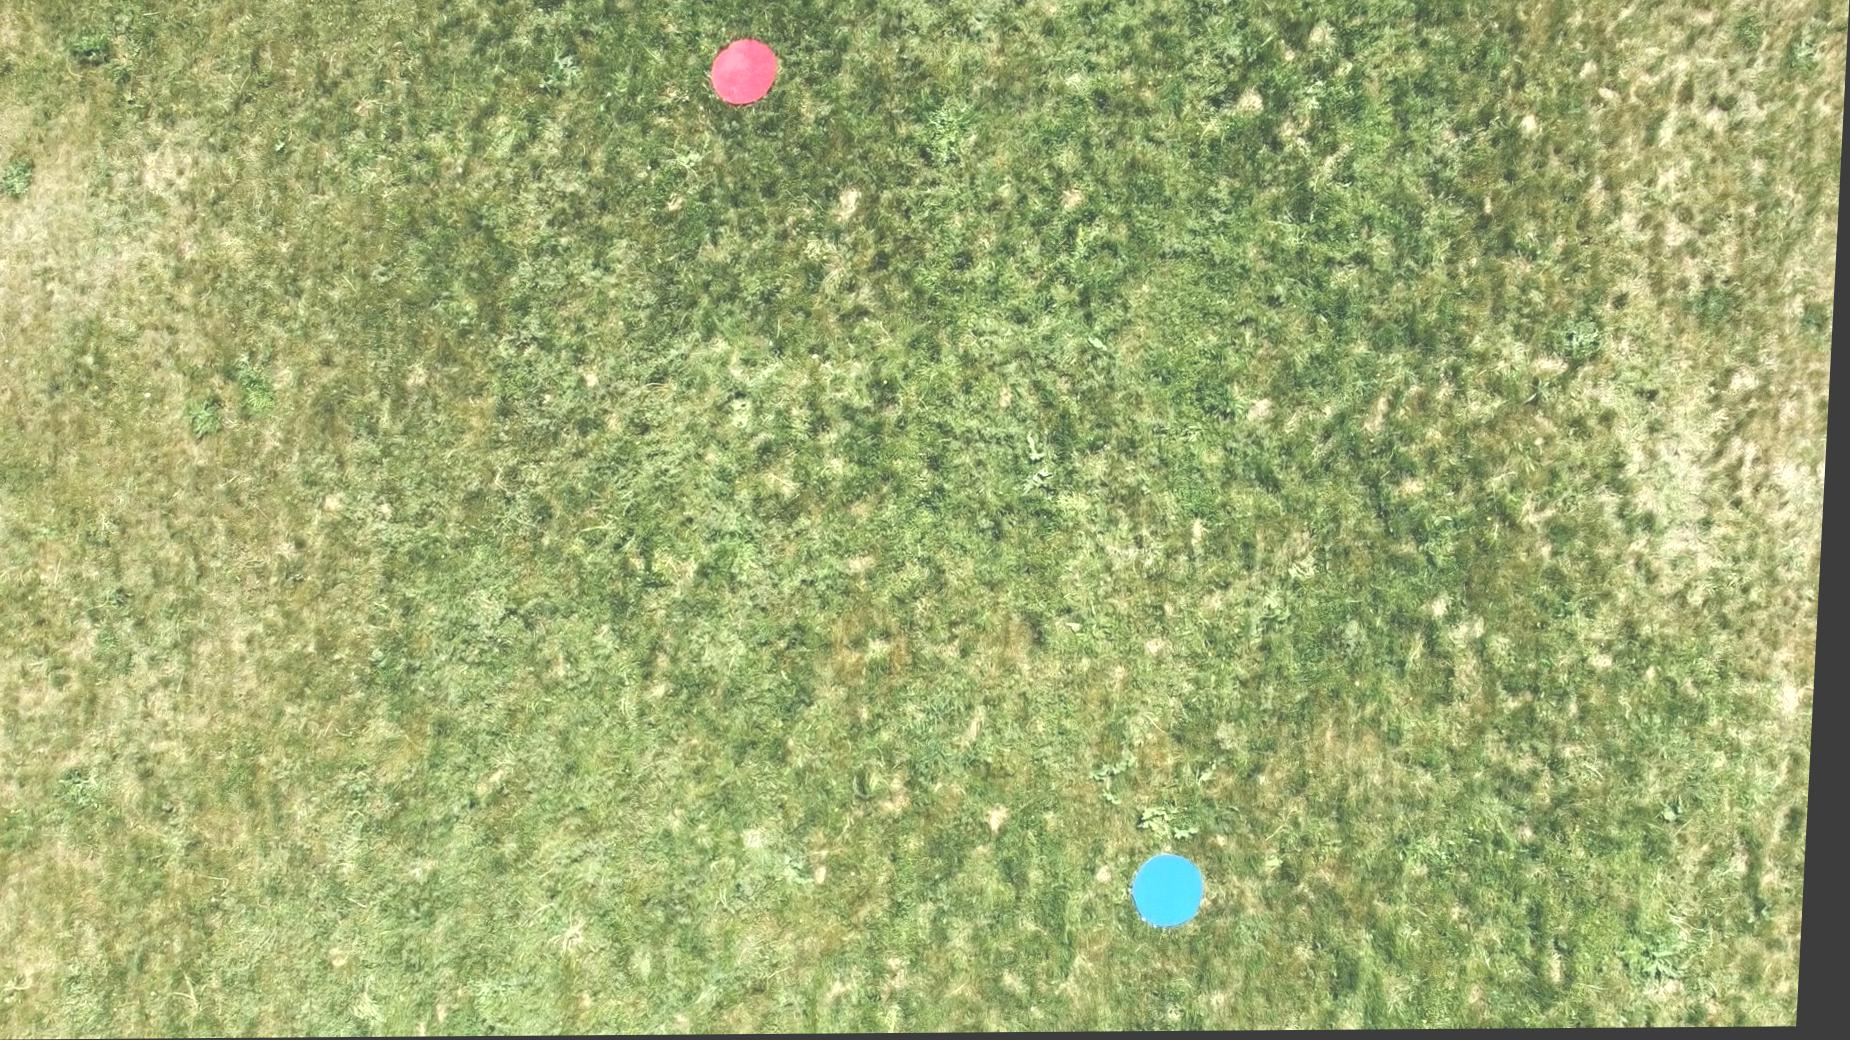Blue: (1138, 853, 1217, 932)
Red: (708, 36, 783, 109)
